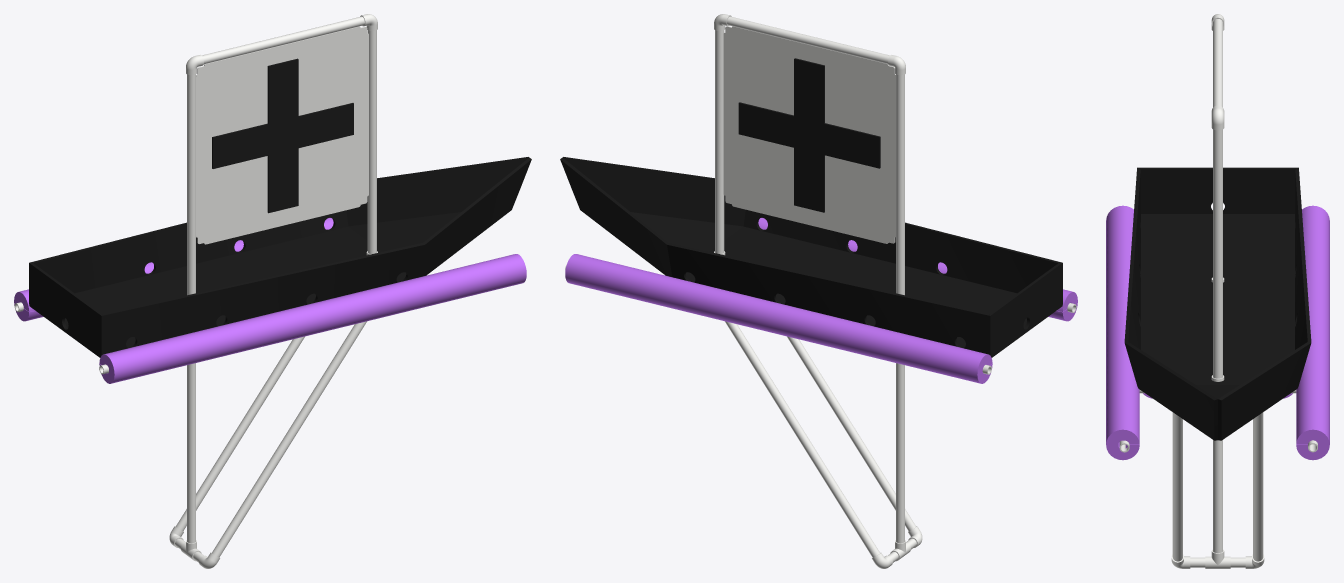
Rendered from BlackDeliveryBoat.obj.
3 views of the same model, side by side, from view 1: azimuth 30°, elevation 25°; view 2: azimuth 150°, elevation 25°; view 3: azimuth 270°, elevation 25° (orthographic). The views are drawn at different scales.
Visible parts, largest first — view 1: Body1:33, Body1:34, Body1:29, Body2:4, Body1:19, Body1:20, Body1:26, Body1:27, Body1:15, Body1:28, Body1:30; view 2: Body1:33, Body1:34, Body1:30, Body2:4, Body1:20, Body1:27, Body1:19, Body1:26, Body1:15, Body1:28, Body1:29; view 3: Body1:33, Body1:29, Body1:30, Body1:27, Body1:19, Body1:20, Body1:15, Body1:28, Body1:16, Body2:3.
Boxes of the visible parts, bbox=[...] form: Body1:33: bbox=[29, 157, 531, 357]; Body1:34: bbox=[196, 26, 368, 244]; Body1:29: bbox=[99, 254, 526, 383]; Body2:4: bbox=[212, 58, 353, 213]; Body1:19: bbox=[212, 321, 366, 557]; Body1:20: bbox=[175, 336, 304, 531]; Body1:26: bbox=[187, 74, 195, 295]; Body1:27: bbox=[367, 30, 376, 253]; Body1:15: bbox=[187, 363, 195, 543]; Body1:28: bbox=[202, 16, 364, 64]; Body1:30: bbox=[14, 218, 333, 321]; Body1:33: bbox=[560, 157, 1062, 357]; Body1:34: bbox=[723, 26, 895, 243]; Body1:30: bbox=[565, 254, 992, 383]; Body2:4: bbox=[738, 58, 880, 212]; Body1:20: bbox=[725, 321, 879, 557]; Body1:27: bbox=[715, 30, 724, 253]; Body1:19: bbox=[787, 336, 916, 531]; Body1:26: bbox=[896, 74, 904, 295]; Body1:15: bbox=[896, 363, 904, 543]; Body1:28: bbox=[727, 16, 889, 64]; Body1:29: bbox=[758, 218, 1077, 321]; Body1:33: bbox=[1124, 167, 1311, 440]; Body1:29: bbox=[1106, 205, 1139, 460]; Body1:30: bbox=[1296, 205, 1329, 460]; Body1:27: bbox=[1213, 129, 1222, 378]; Body1:19: bbox=[1172, 412, 1182, 561]; Body1:20: bbox=[1253, 412, 1263, 561]; Body1:15: bbox=[1213, 440, 1222, 552]; Body1:28: bbox=[1213, 19, 1222, 107]; Body1:16: bbox=[1205, 549, 1230, 568]; Body2:3: bbox=[1211, 105, 1224, 130].
Bounding box in the file's own units: 160 × 162 × 59.
